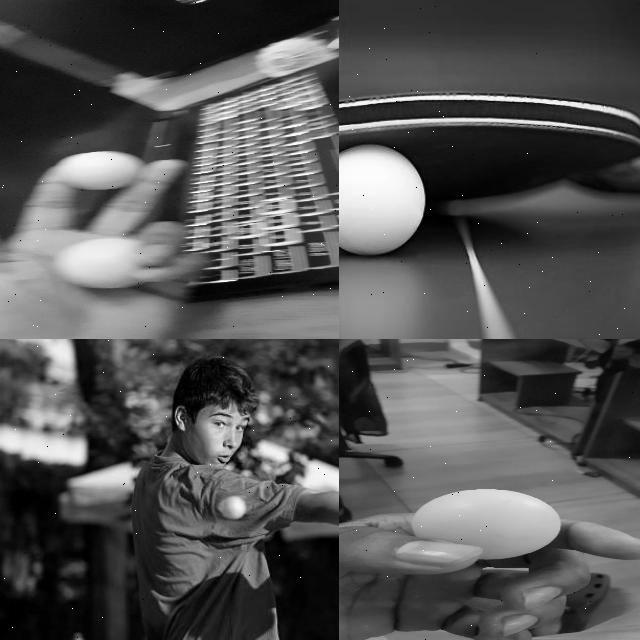ping-pong-ball: (412, 488, 562, 558), (339, 145, 424, 254), (54, 238, 146, 289), (55, 150, 145, 188), (221, 498, 245, 518)
